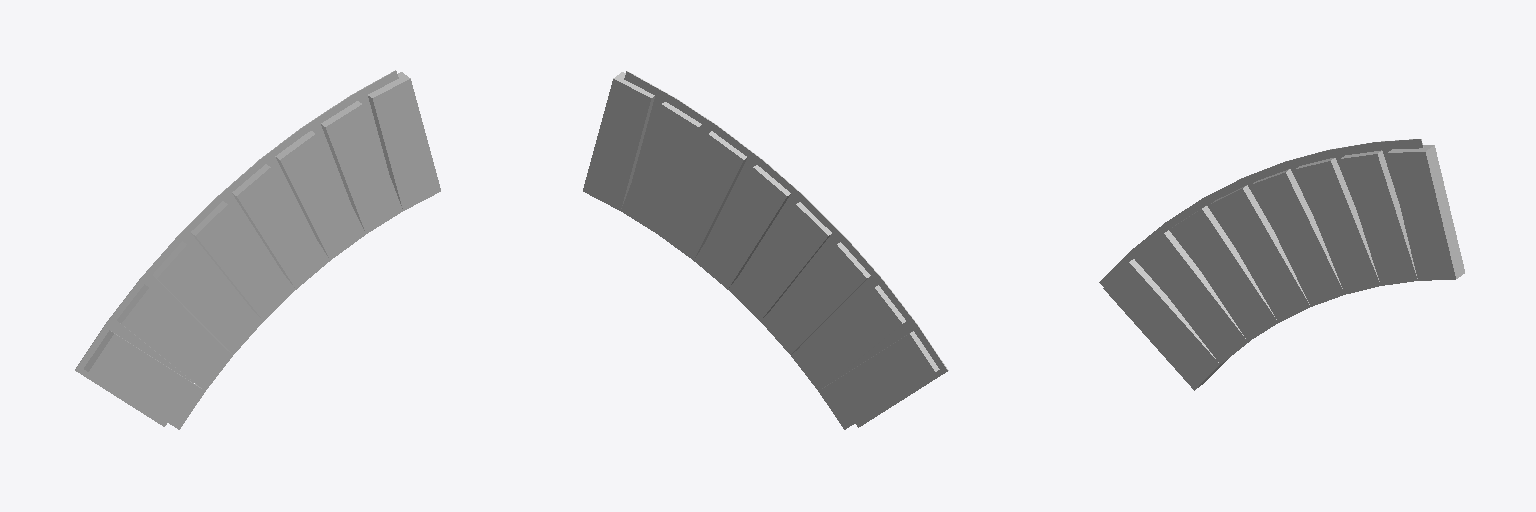
Rendered from lime_mortar_orange_clay_brick_facade_segmental_arch_3_left.obj.
3 views of the same model, side by side, from view 1: azimuth 30°, elevation 25°; view 2: azimuth 150°, elevation 25°; view 3: azimuth 330°, elevation 25° (orthographic).
Visible parts, largest first — view 1: brick.020, brick.019, brick.018, brick.017, brick.013, brick.016, brick.015, brick.014, cube.130, cube.128, cube.127, cube.126 (+4 smaller); view 2: brick.020, brick.019, brick.018, brick.017, brick.013, brick.016, brick.015, brick.014, cube.129, cube.130, cube.127, cube.126 (+4 smaller); view 3: brick.020, brick.013, brick.019, brick.018, brick.017, brick.016, brick.015, brick.014, cube.123, cube.124.
Part boxes in pixels (x1,y1,x2,y2): brick.020: (368,72,440,210); brick.019: (321,101,402,233); brick.018: (275,131,365,260); brick.017: (232,164,329,289); brick.013: (84,330,205,429); brick.016: (191,201,295,320); brick.015: (153,241,263,354); brick.014: (117,284,232,390); cube.130: (75,324,193,426); cube.128: (141,236,250,346); cube.127: (178,196,246,302); cube.126: (218,160,282,272); brick.020: (583,72,654,210); brick.019: (621,102,701,233); brick.018: (658,131,747,260); brick.017: (694,165,790,289); brick.013: (818,331,939,429); brick.016: (728,202,831,320); brick.015: (760,242,870,354); brick.014: (791,285,905,390); cube.129: (800,279,916,383); cube.130: (855,324,948,427); cube.127: (771,197,844,309); cube.126: (740,160,804,273); brick.020: (1387,145,1464,280); brick.013: (1103,259,1227,390); brick.019: (1340,150,1417,285); brick.018: (1295,158,1380,294); brick.017: (1252,169,1344,306); brick.016: (1210,185,1310,322); brick.015: (1172,205,1277,341); brick.014: (1137,230,1249,363); cube.123: (1374,139,1423,200); cube.124: (1328,142,1376,204).
Size of the model in its own units: 1.43 by 1.14 by 0.0633.